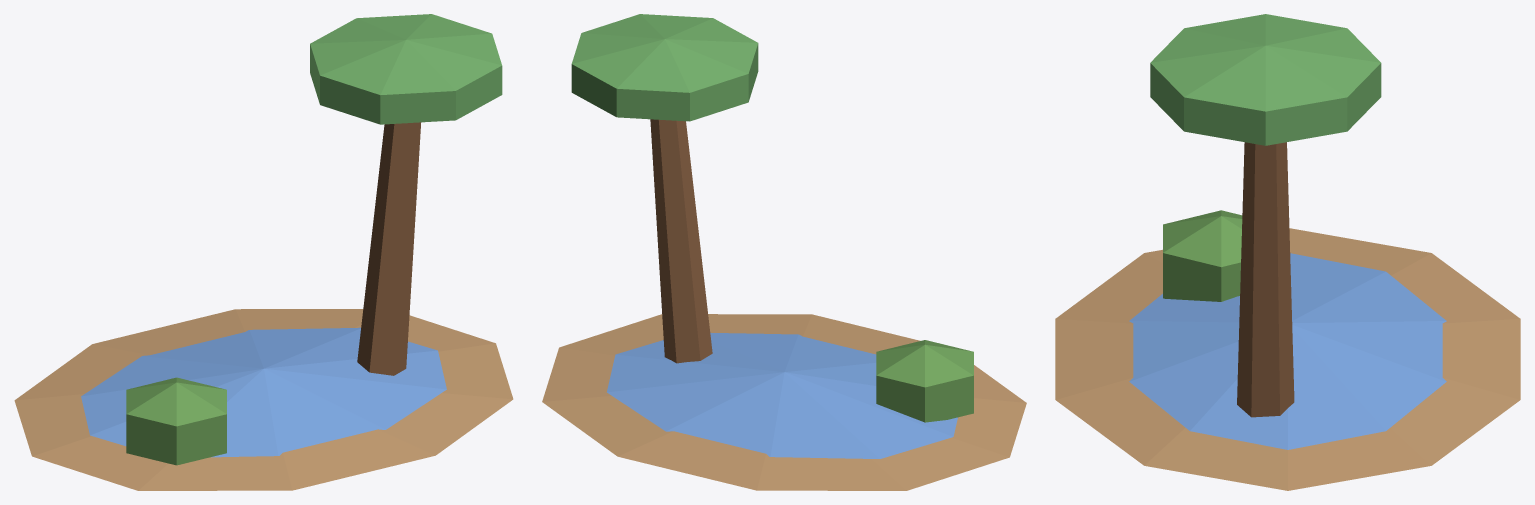
File: deco_oasis.obj
3 views of the same model, side by side, from view 1: azimuth 30°, elevation 25°; view 2: azimuth 150°, elevation 25°; view 3: azimuth 270°, elevation 25° (orthographic). The views are drawn at different scales.
Visible parts, largest first — view 1: deco_oasis; view 2: deco_oasis; view 3: deco_oasis.
Boxes of the visible parts, x1,y1,x2,y2 form: deco_oasis: (14, 14, 513, 490); deco_oasis: (542, 14, 1026, 490); deco_oasis: (1055, 14, 1520, 490).
Size of the model in its own units: 0.056 by 0.0412 by 0.0418.
1 material, 1 textured.
